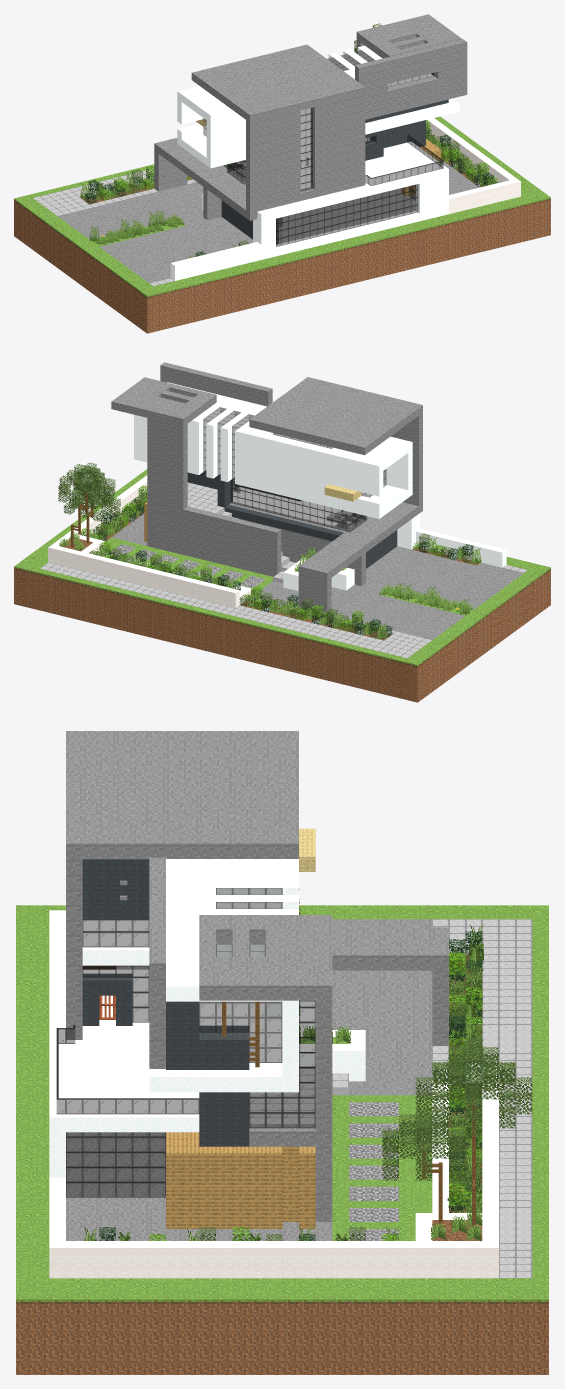
3 views of the same model, one above another, from view 1: azimuth 30°, elevation 25°; view 2: azimuth 150°, elevation 25°; view 3: azimuth 270°, elevation 25° (orthographic). The views are drawn at different scales.
Parts seen in each view (by area): view 1: Object_23, Object_9, Object_19, Object_12, Object_22, Object_3, Object_15, Object_27, Object_10, Object_26, Object_18, Object_21 (+1 smaller); view 2: Object_23, Object_19, Object_9, Object_12, Object_15, Object_3, Object_10, Object_22, Object_27, Object_26, Object_18, Object_25 (+4 smaller); view 3: Object_23, Object_12, Object_19, Object_9, Object_3, Object_22, Object_15, Object_10, Object_27, Object_16, Object_5, Object_21 (+4 smaller).
Boxes of the visible parts, <box> form: Object_23: <box>58,14,479,283</box>; Object_9: <box>14,144,550,333</box>; Object_19: <box>170,45,459,280</box>; Object_12: <box>14,116,550,303</box>; Object_22: <box>226,107,443,246</box>; Object_3: <box>231,118,520,213</box>; Object_15: <box>85,23,501,256</box>; Object_27: <box>221,73,448,244</box>; Object_10: <box>33,168,196,286</box>; Object_26: <box>80,133,495,257</box>; Object_18: <box>93,133,496,245</box>; Object_21: <box>203,50,434,226</box>; Object_23: <box>111,362,523,639</box>; Object_19: <box>134,382,506,590</box>; Object_9: <box>14,499,550,702</box>; Object_12: <box>14,469,550,672</box>; Object_15: <box>58,462,473,638</box>; Object_3: <box>48,475,252,608</box>; Object_10: <box>40,562,527,658</box>; Object_22: <box>230,433,367,531</box>; Object_27: <box>187,470,397,568</box>; Object_26: <box>90,495,481,640</box>; Object_18: <box>59,492,472,632</box>; Object_25: <box>187,482,353,583</box>; Object_23: <box>66,731,448,1240</box>; Object_12: <box>16,905,548,1314</box>; Object_19: <box>49,859,365,1177</box>; Object_9: <box>16,954,548,1374</box>; Object_3: <box>49,1065,498,1278</box>; Object_22: <box>56,920,315,1197</box>; Object_15: <box>99,931,532,1240</box>; Object_10: <box>432,919,532,1278</box>; Object_27: <box>82,859,249,1146</box>; Object_16: <box>166,828,315,1228</box>; Object_5: <box>349,1102,398,1240</box>; Object_21: <box>199,888,282,1062</box>.
Size of the model in its own units: 2.33 by 1 by 1.33.
26 materials, 26 textured.
